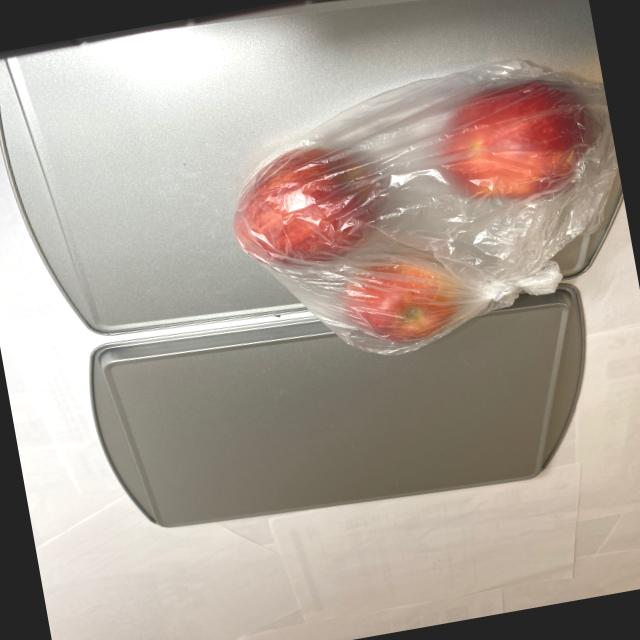apple: (212, 66, 630, 372)
